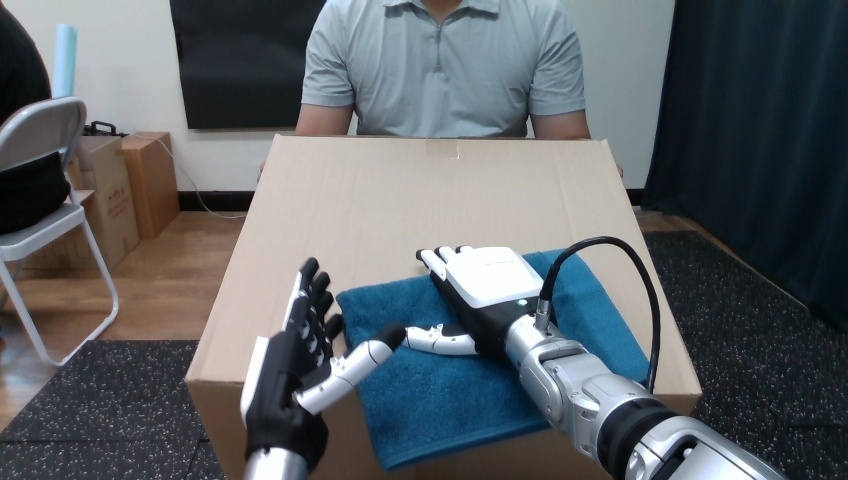left robot hand: (405, 236, 784, 479), (240, 258, 475, 479), (551, 243, 652, 388)
